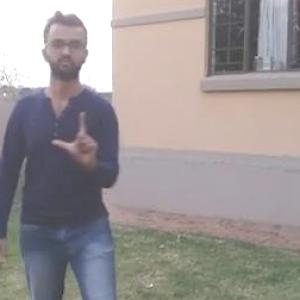land_hand: (46, 107, 105, 167)
